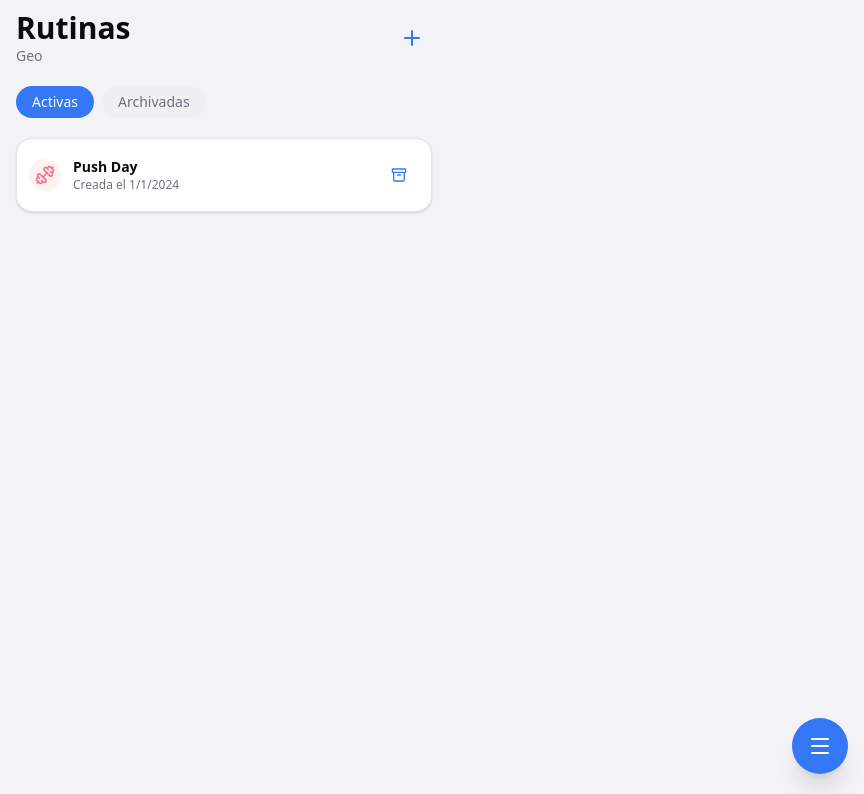
Scenario: RoutinesPage › archiva una rutina y la muestra en la pestaña de archivadas
Click the button named "Archivar rutina" at x=399, y=175, box [379,155,419,195]
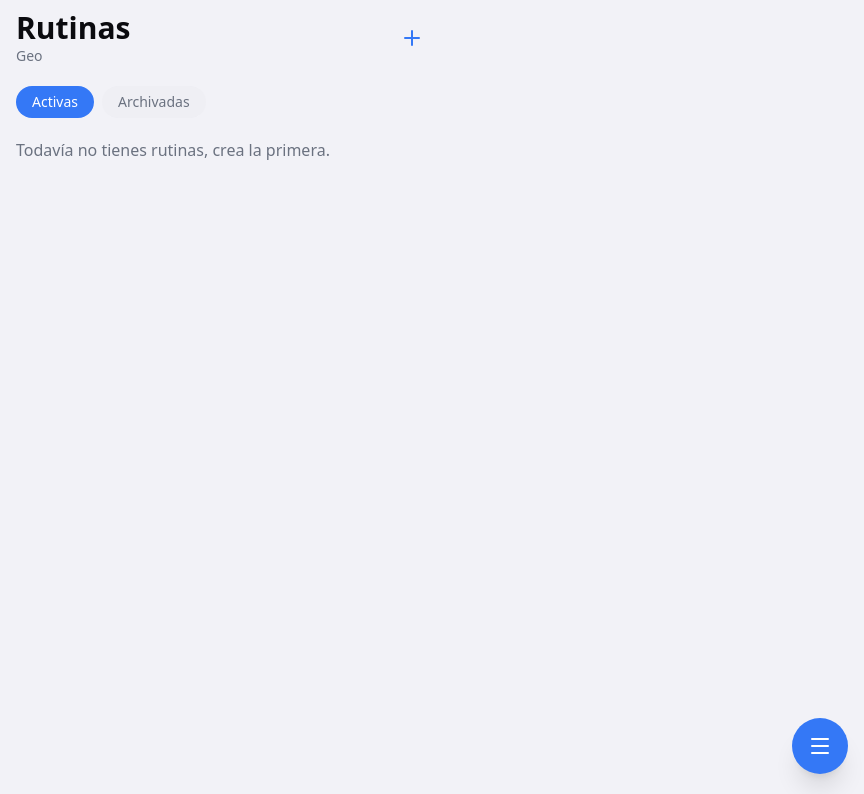
Check: the text "Todavía no tienes rutinas, crea la primera." is shown, box [16,139,330,161]
Click the button "Archivadas" at x=154, y=102, box [102,86,206,118]
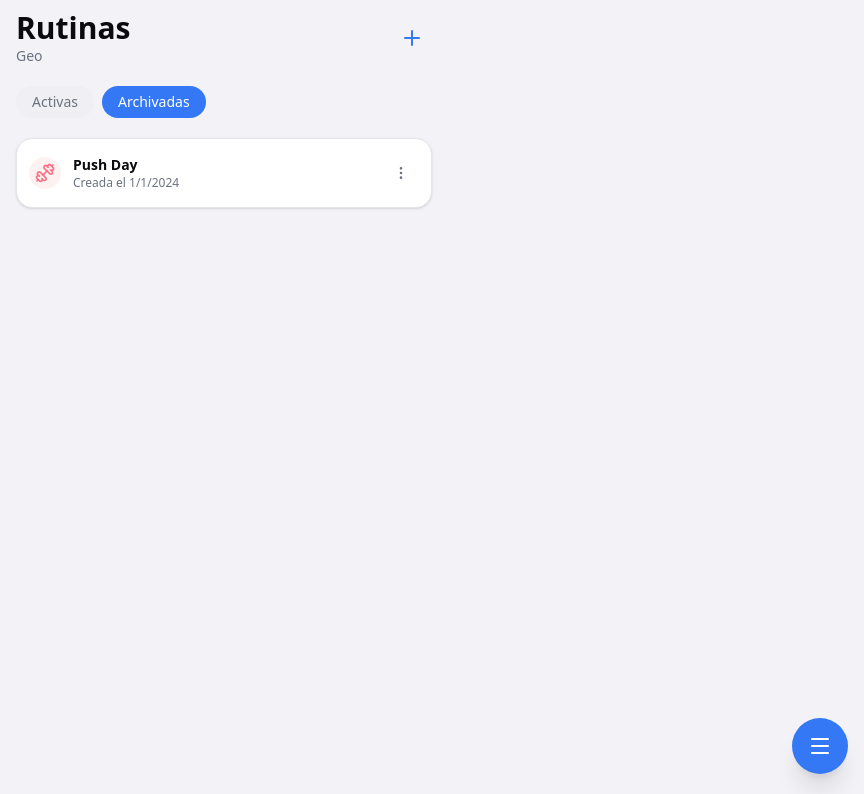
Check: the text "Push Day" is shown, box [73,155,138,174]
Click the button named "Más opciones" at x=401, y=173, box [383,155,419,191]
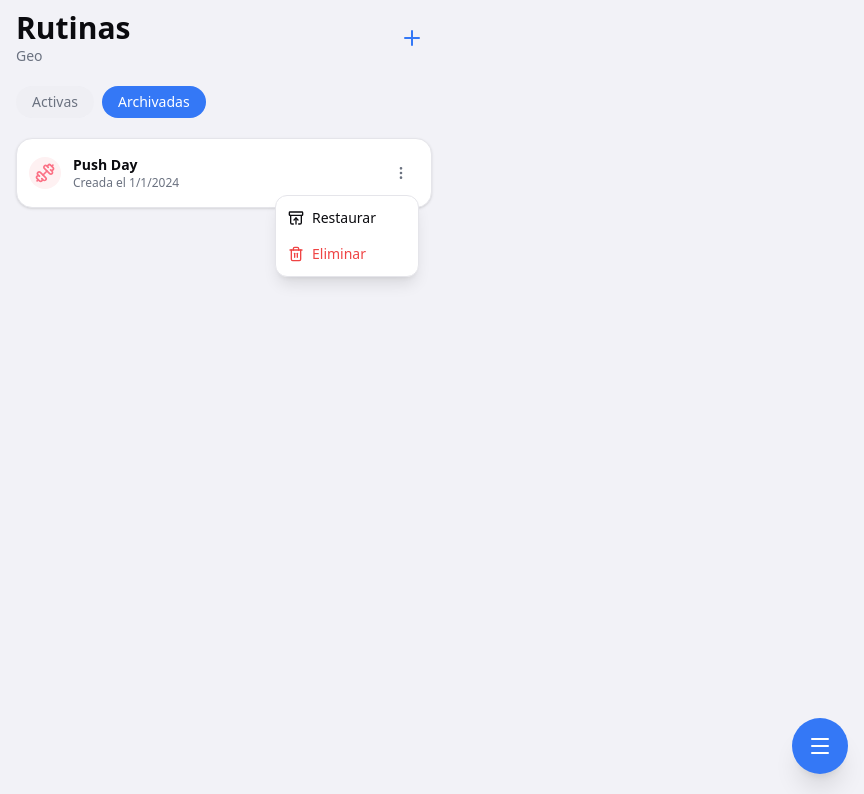
Check: the menu item "Restaurar" is shown, box [276,200,418,236]
Check: the menu item "Eliminar" is shown, box [276,236,418,272]
